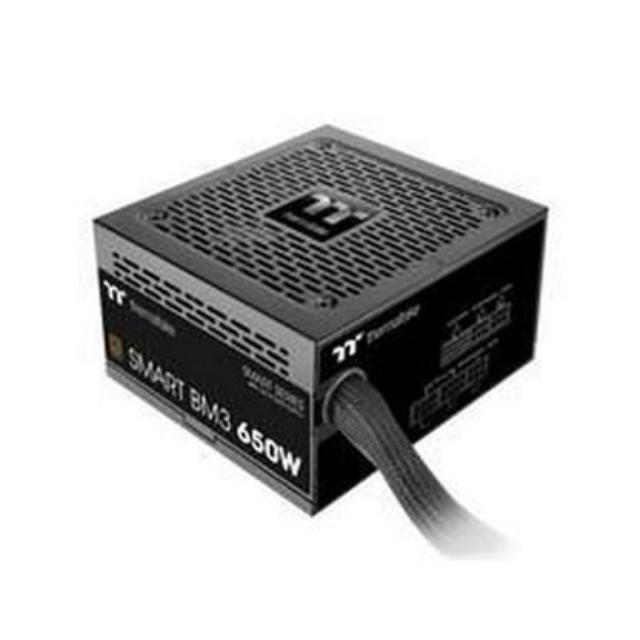PSU: (84, 126, 566, 516)
